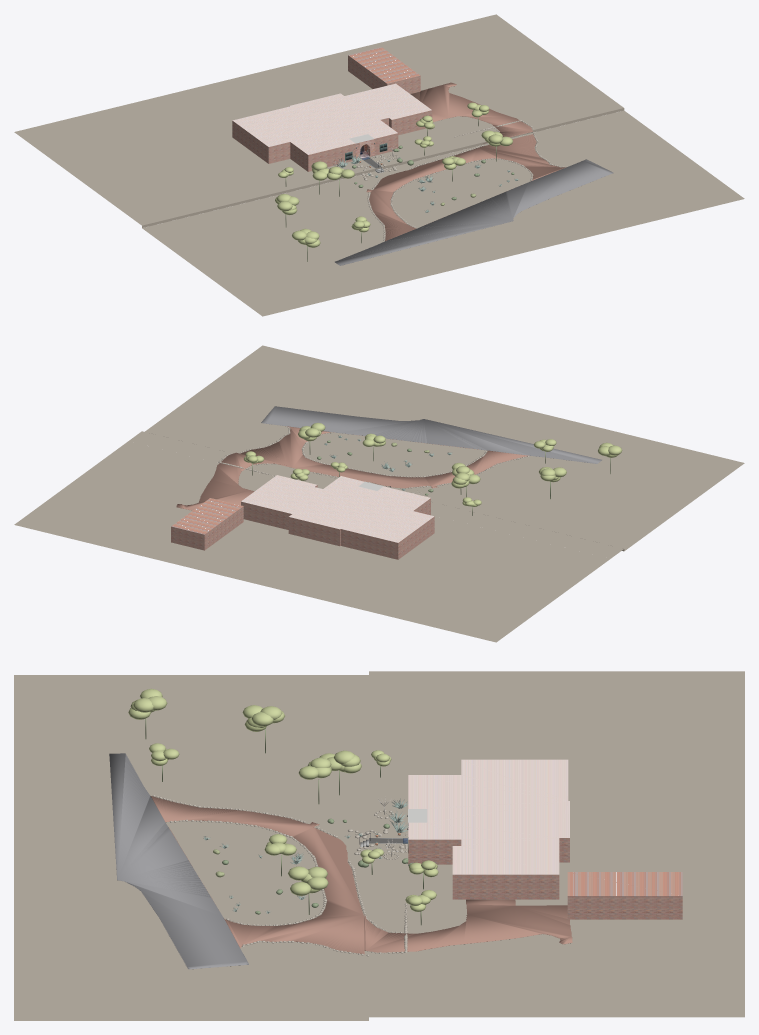
File: porch.glb
3 views of the same model, one above another, from view 1: azimuth 30°, elevation 25°; view 2: azimuth 150°, elevation 25°; view 3: azimuth 270°, elevation 25° (orthographic). The views are drawn at different scales.
Visible parts, largest first — view 1: yard_far, yard_side, house0_walls, yard_road0, yard_drive_lo10, veg_canopy, yard_near_L, yard_near_R, guesthouse_walls, yard_drive_hi0, yard_drop; view 2: yard_far, yard_side, house0_walls, yard_road0, yard_drive_lo10, veg_canopy, yard_near_L, guesthouse_walls, yard_near_R, yard_drive_hi0; view 3: yard_far, yard_side, house0_walls, yard_road0, yard_drive_lo10, yard_near_L, veg_canopy, yard_drive_hi0, yard_near_R, guesthouse_walls.
Part boxes in pixels (x1,y1,x2,y2): yard_far: (142,110,744,316); yard_side: (14,14,609,215); house0_walls: (232,83,432,171); yard_road0: (335,159,613,265); yard_drive_lo10: (366,134,566,240); veg_canopy: (275,102,512,247); yard_near_L: (128,159,374,225); yard_near_R: (369,98,623,166); guesthouse_walls: (348,47,420,93); yard_drive_hi0: (410,82,532,143); yard_drop: (142,108,624,227); yard_far: (145,345,744,550); yard_side: (14,441,610,642); house0_walls: (241,475,434,559); yard_road0: (261,406,601,463); yard_drive_lo10: (240,426,529,488); veg_canopy: (243,422,622,506); yard_near_L: (431,502,623,558); guesthouse_walls: (171,498,243,550); yard_near_R: (128,431,336,488); yard_drive_hi0: (176,452,286,510); yard_far: (14,675,368,1020); yard_side: (408,671,744,1017); house0_walls: (408,759,569,899); yard_road0: (109,753,248,969); yard_drive_lo10: (151,796,364,954); yard_near_L: (369,671,408,838); veg_canopy: (128,688,438,911); yard_drive_hi0: (364,899,572,952); yard_near_R: (369,843,408,1017); guesthouse_walls: (567,872,682,919).
Bounding box in the file's own units: 89.61 × 5.63 × 80.01.
43 materials, 14 textured.
